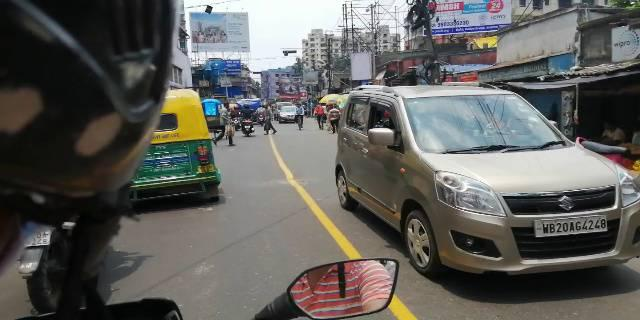Autorickshaw: (132, 92, 228, 206)
Car: (328, 79, 640, 280)
Cycle: (292, 99, 308, 135)
Motorbike: (236, 100, 258, 143)
